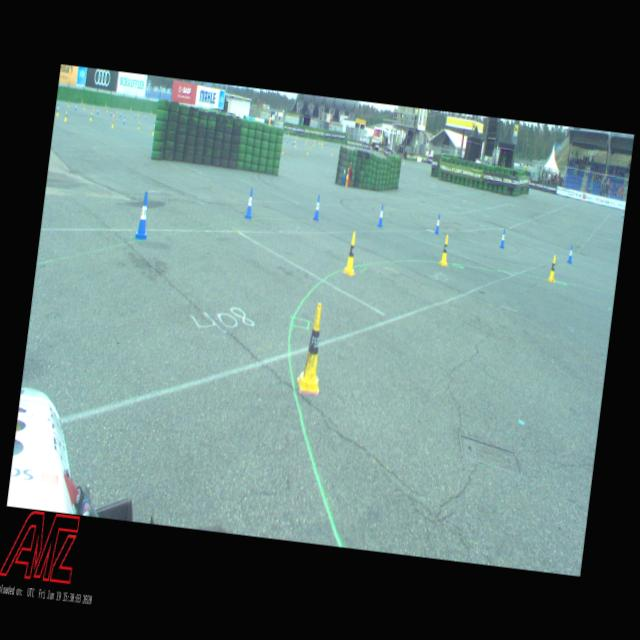blue_cone: (134, 190, 152, 240), (243, 188, 255, 219), (312, 193, 322, 220), (376, 202, 384, 228), (434, 212, 441, 234), (499, 228, 506, 248), (567, 244, 573, 264), (342, 166, 346, 179)
yellow_cone: (296, 302, 330, 392), (342, 231, 360, 275), (438, 233, 451, 266), (547, 254, 558, 283), (64, 110, 68, 122), (345, 167, 349, 178), (110, 118, 114, 128), (89, 111, 92, 120)
